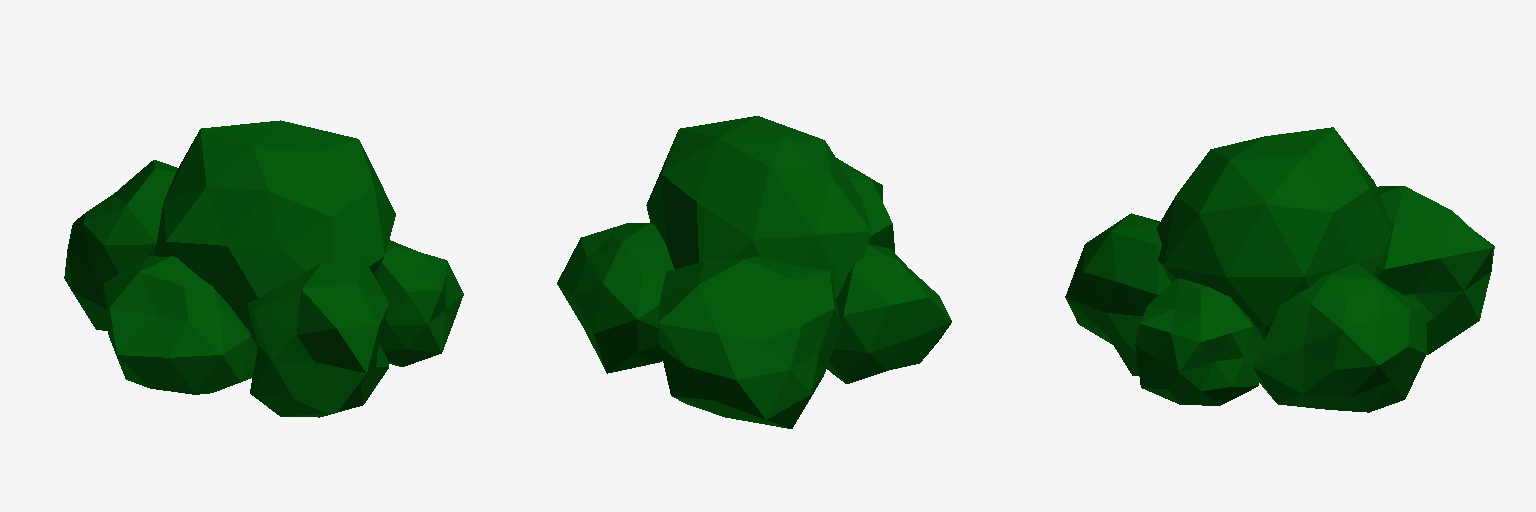
Rendered from bush.obj.
The picture shows the model from 3 angles: view 1: azimuth 30°, elevation 25°; view 2: azimuth 150°, elevation 25°; view 3: azimuth 270°, elevation 25°; orthographic projection.
Visible parts, largest first — view 1: Icosphere, Icosphere.003, Icosphere.004, Icosphere.005, Icosphere.002; view 2: Icosphere, Icosphere.005, Icosphere.001, Icosphere.004, Icosphere.003; view 3: Icosphere, Icosphere.001, Icosphere.002, Icosphere.005, Icosphere.003.
Part boxes in pixels (x1,y1,x2,y2): Icosphere: (154, 120, 395, 328); Icosphere.003: (247, 256, 388, 417); Icosphere.004: (104, 256, 256, 394); Icosphere.005: (64, 160, 177, 330); Icosphere.002: (373, 240, 463, 366); Icosphere: (646, 116, 871, 298); Icosphere.005: (658, 256, 841, 428); Icosphere.001: (557, 223, 673, 373); Icosphere.004: (827, 244, 951, 383); Icosphere.003: (837, 158, 894, 252); Icosphere: (1157, 127, 1391, 340); Icosphere.001: (1252, 264, 1426, 412); Icosphere.002: (1135, 278, 1263, 405); Icosphere.005: (1374, 186, 1494, 354); Icosphere.003: (1065, 213, 1171, 375).
Size of the model in its own units: 4.39 by 3.06 by 5.05.